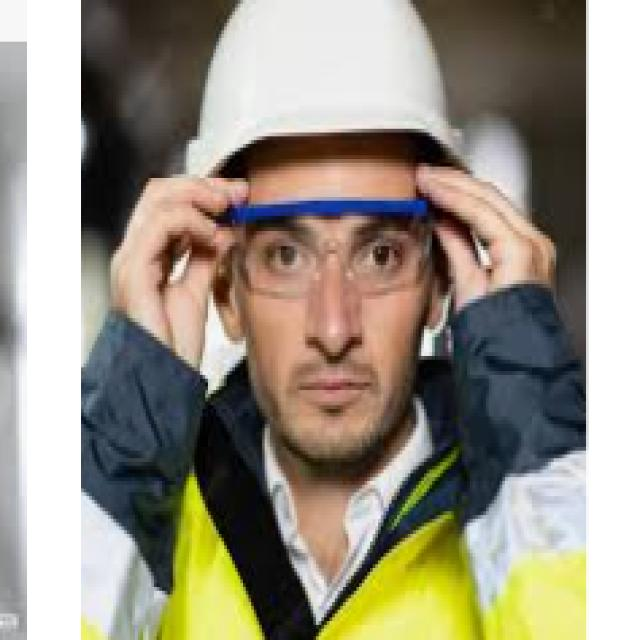glasses: (211, 188, 433, 299)
